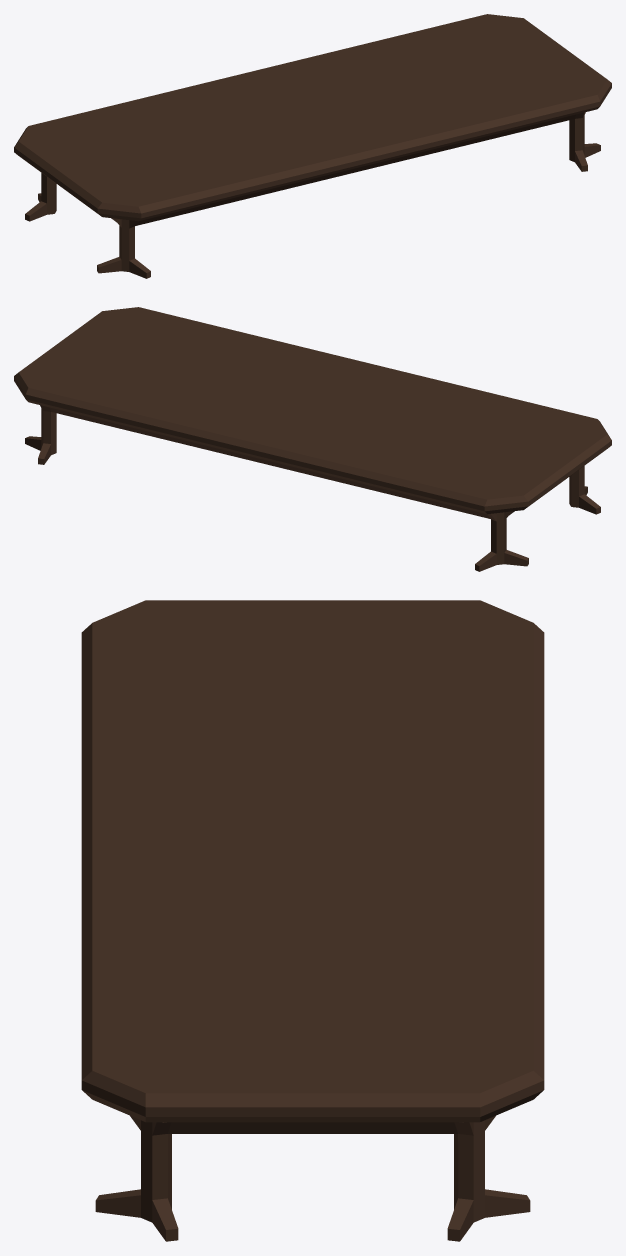
Rendered from NW_CITY_TABLE_WAR_01.OBJ.
3 views of the same model, one above another, from view 1: azimuth 30°, elevation 25°; view 2: azimuth 150°, elevation 25°; view 3: azimuth 270°, elevation 25° (orthographic). The views are drawn at different scales.
Visible parts, largest first — view 1: NW_CITY_TABLE_WAR_01; view 2: NW_CITY_TABLE_WAR_01; view 3: NW_CITY_TABLE_WAR_01.
Boxes of the visible parts, x1,y1,x2,y2 form: NW_CITY_TABLE_WAR_01: [14, 14, 611, 278]; NW_CITY_TABLE_WAR_01: [14, 307, 611, 571]; NW_CITY_TABLE_WAR_01: [81, 600, 544, 1241].
Bounding box in the file's own units: 5.57 × 0.775 × 2.17.
